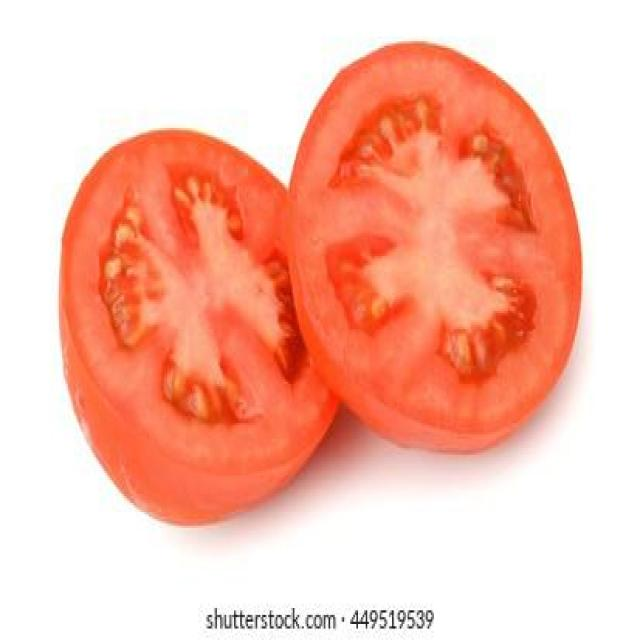Tomato: (284, 41, 597, 448), (49, 123, 347, 525)
